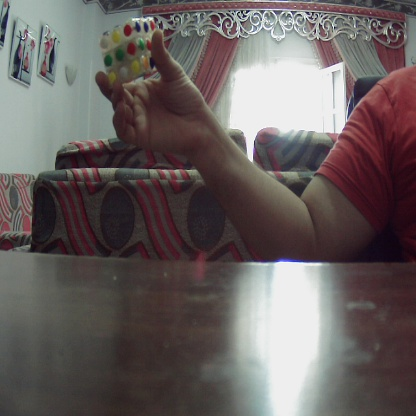Rubix Cube: (100, 24, 157, 75)
